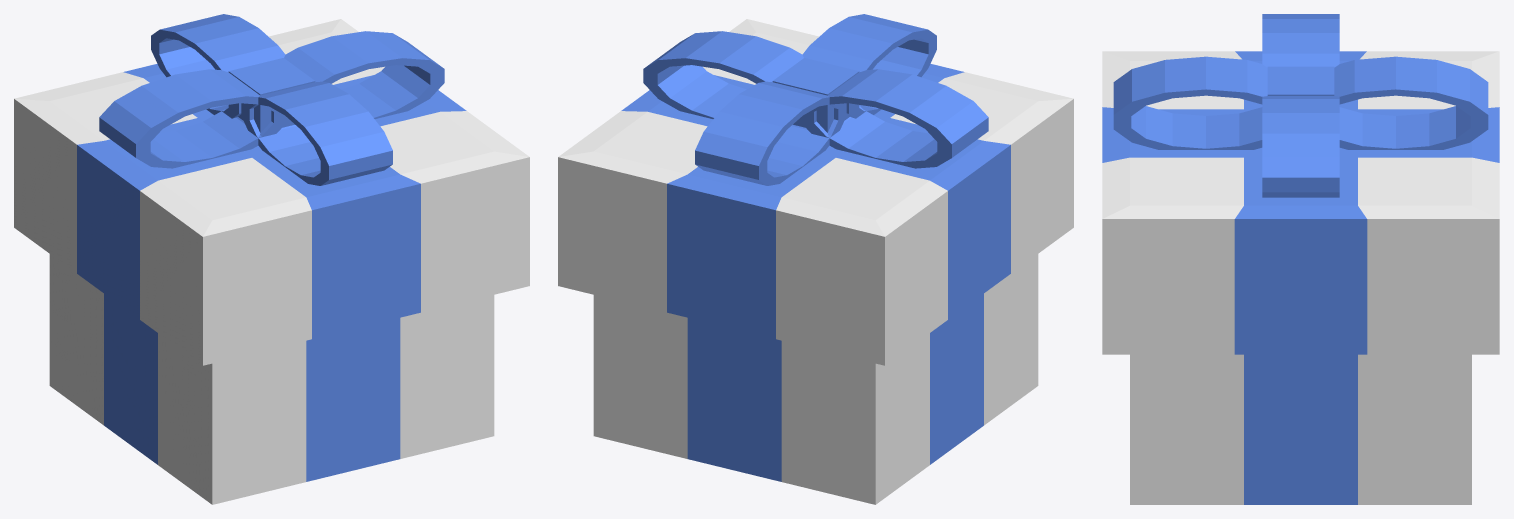
File: Present002.fbx
3 views of the same model, side by side, from view 1: azimuth 30°, elevation 25°; view 2: azimuth 150°, elevation 25°; view 3: azimuth 270°, elevation 25° (orthographic). The views are drawn at different scales.
Visible parts, largest first — view 1: Present002; view 2: Present002; view 3: Present002.
Part boxes in pixels (x1,y1,x2,y2): Present002: [14, 14, 529, 504]; Present002: [558, 14, 1073, 504]; Present002: [1102, 14, 1499, 504].
Bounding box in the file's own units: 83.71 × 83.67 × 83.71.
